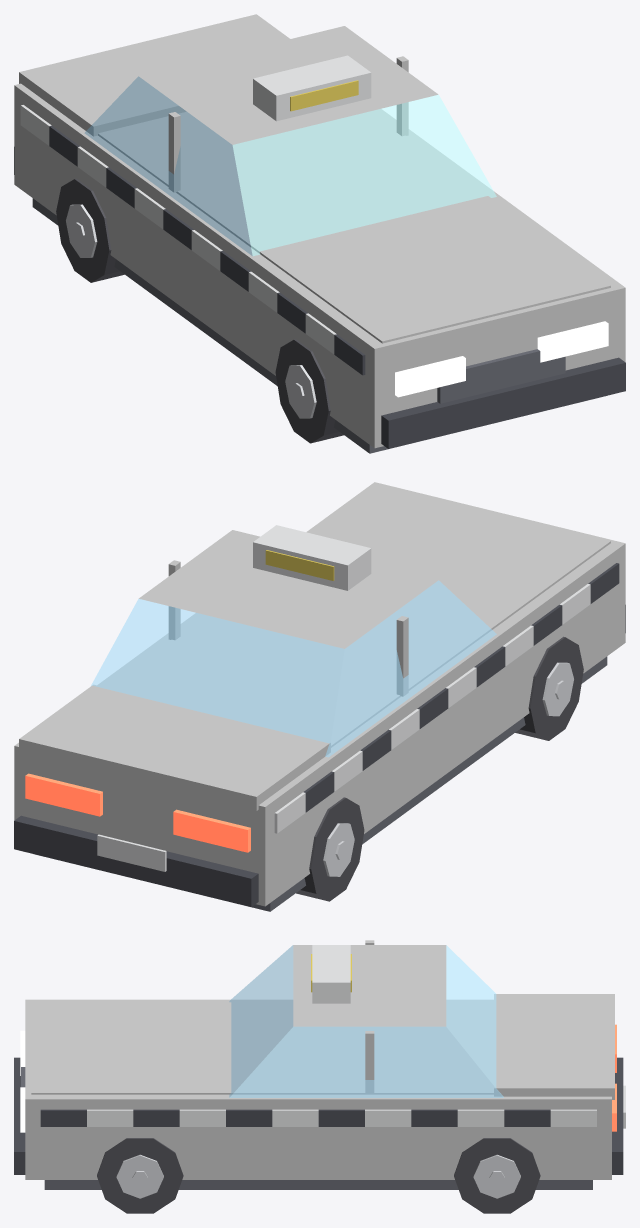
File: taxi.glb
3 renders of one model, top to bottom at view 1: azimuth 30°, elevation 25°; view 2: azimuth 150°, elevation 25°; view 3: azimuth 270°, elevation 25°, orthographic. The views are drawn at different scales.
Parts seen in each view (by area): view 1: taxi, wheel-fl, wheel-bl; view 2: taxi, wheel-bl, wheel-fl; view 3: taxi, wheel-fr, wheel-br.
Part boxes in pixels (bbox=[...]): taxi: bbox=[14, 14, 625, 453]; wheel-fl: bbox=[275, 339, 343, 443]; wheel-bl: bbox=[56, 178, 124, 282]; taxi: bbox=[14, 482, 625, 911]; wheel-bl: bbox=[296, 797, 364, 901]; wheel-fl: bbox=[515, 636, 583, 740]; taxi: bbox=[14, 940, 625, 1189]; wheel-fr: bbox=[97, 1138, 183, 1213]; wheel-br: bbox=[454, 1138, 540, 1213].
Size of the model in its own units: 1.94 by 1.72 by 4.8.
